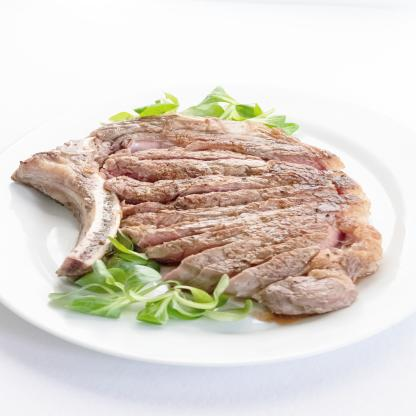Carne: (146, 206, 373, 253), (187, 226, 339, 280), (107, 170, 361, 199), (104, 150, 340, 174), (126, 194, 362, 218), (100, 121, 295, 149), (223, 249, 336, 297), (243, 272, 364, 310)
